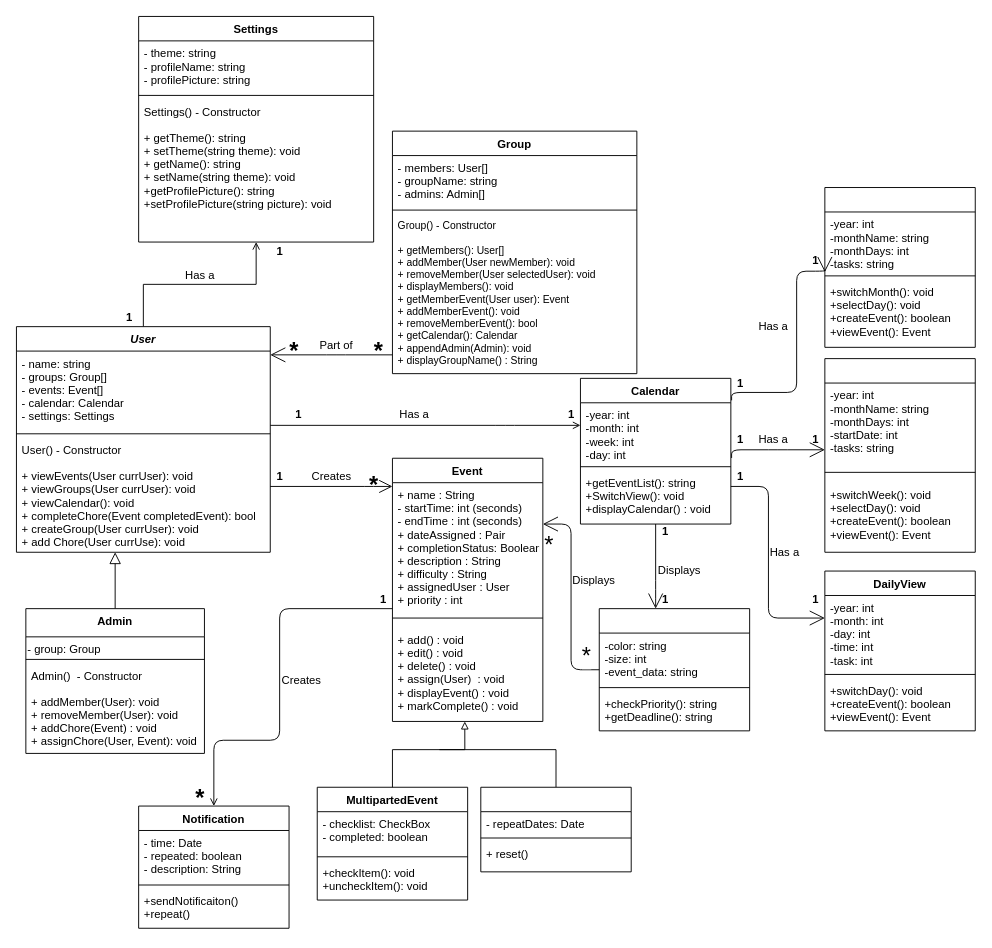
Image size: 992x948. Some labels were removed from this diagram. Here are the shapes that lost their labels. From the top down, the box of each, then its label:
(824, 187, 975, 347): MonthlyView
(824, 358, 975, 552): WeeklyView
(598, 608, 750, 731): EventPanel
(480, 786, 631, 872): RepeatingEvent
